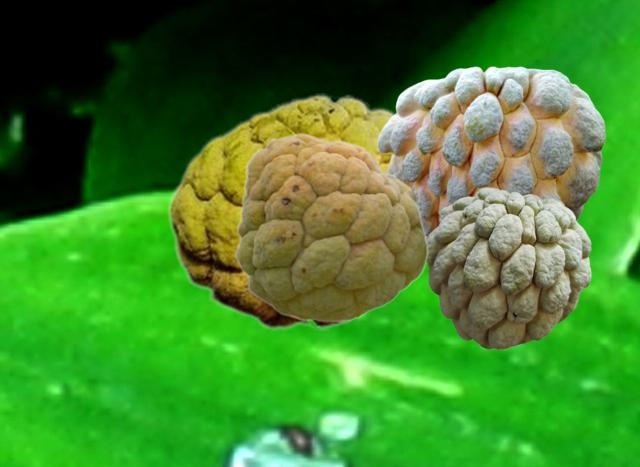atis: (166, 93, 395, 329), (377, 66, 604, 234), (234, 132, 427, 321), (427, 187, 590, 348)
